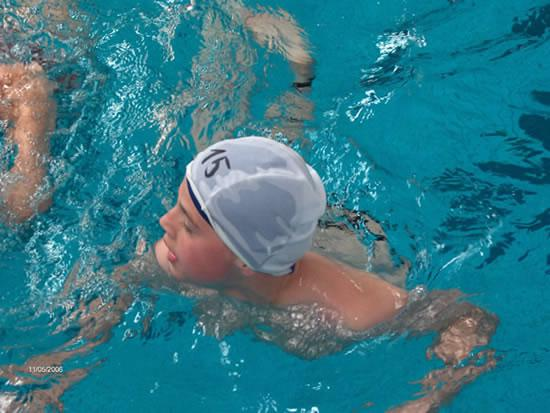swimmer: (117, 124, 496, 412)
